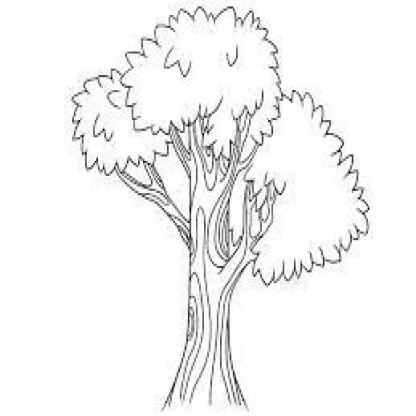branch_cut: (108, 106, 276, 274)
crown_cloud: (74, 6, 372, 288)
knot: (183, 303, 197, 343)
trunk_bark: (177, 289, 238, 373)
